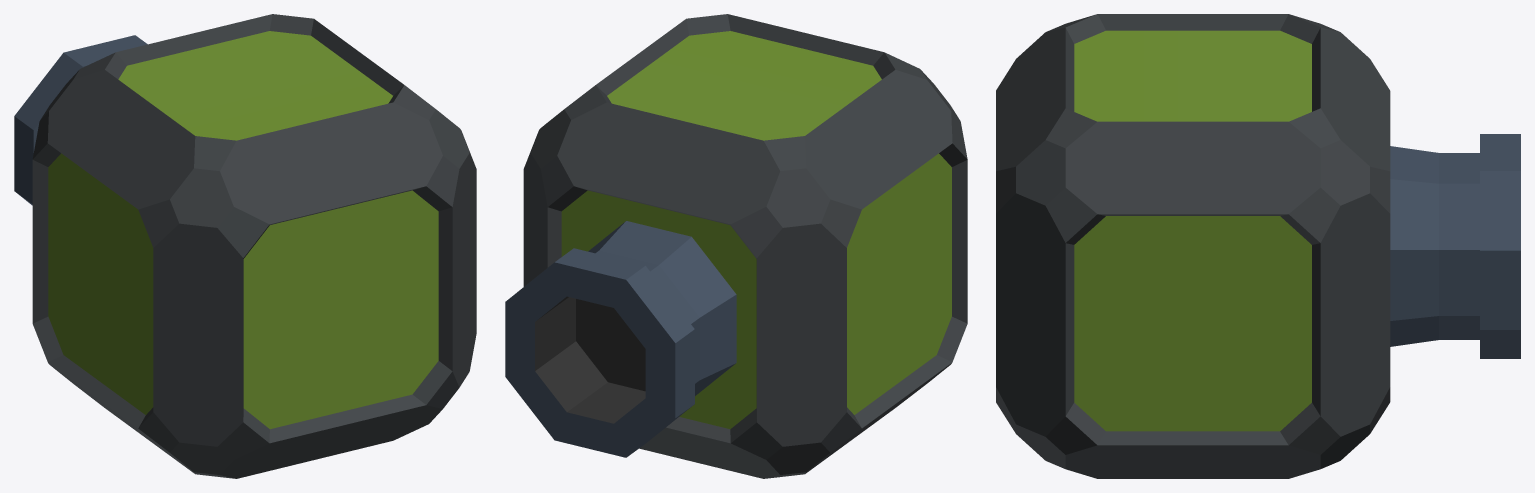
File: Cannon.fbx
3 views of the same model, side by side, from view 1: azimuth 30°, elevation 25°; view 2: azimuth 150°, elevation 25°; view 3: azimuth 270°, elevation 25° (orthographic). The views are drawn at different scales.
Parts seen in each view (by area): view 1: CannonBlock; view 2: CannonBlock; view 3: CannonBlock.
Part boxes in pixels (x1=…): CannonBlock: x1=14, y1=14, x2=476, y2=478; CannonBlock: x1=505, y1=14, x2=967, y2=478; CannonBlock: x1=996, y1=14, x2=1520, y2=478.
Bounding box in the file's own units: 2.16 × 2.16 × 2.87.
